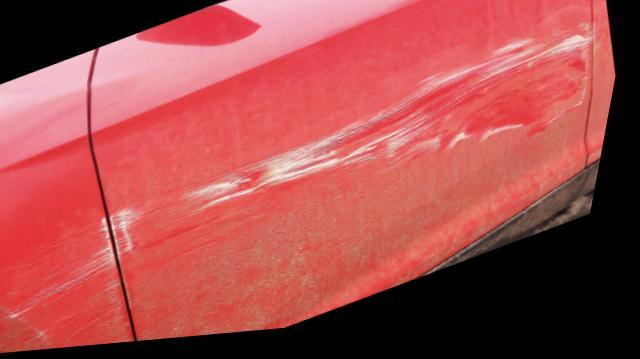scratch: (118, 31, 600, 259), (0, 215, 134, 351)
